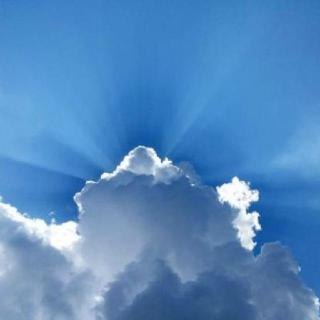Altostratus: (6, 137, 320, 320)
